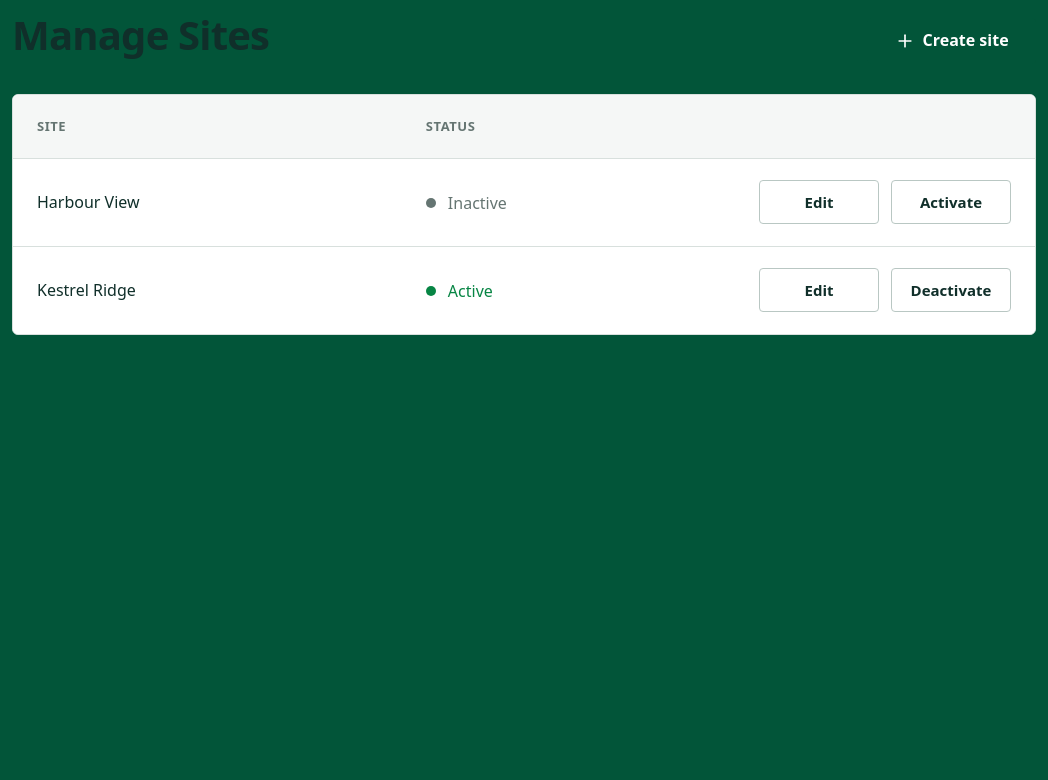
AdminSitesPage › creates a site with checklist items and ignores blank rows
Expected: the table is shown, top-left (13, 95), bottom-right (1035, 334)
Click the button "Create site".
click(952, 41)  # box top-left (867, 18), bottom-right (1036, 64)
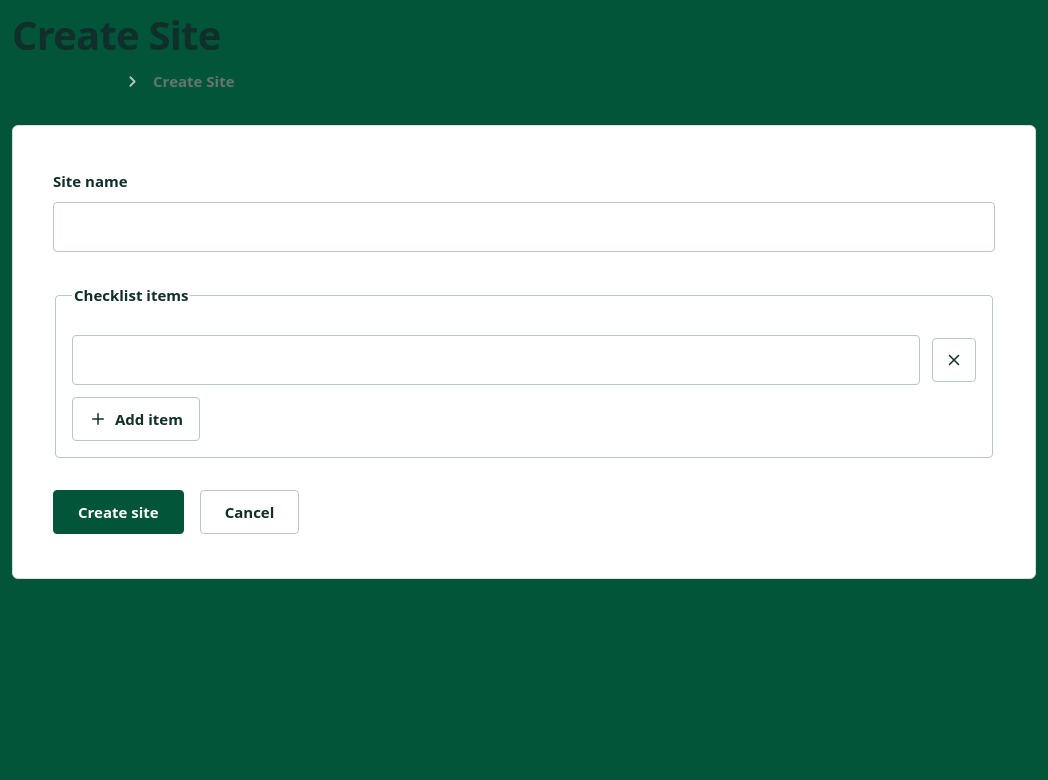
Type "Maple Court" into the field labelled "Site name".
click(524, 227); type("Maple Court")  # box top-left (53, 202), bottom-right (995, 252)
Type "Hard hat worn" into the field named "Checklist item 1".
click(496, 360); type("Hard hat worn")  # box top-left (72, 335), bottom-right (920, 385)
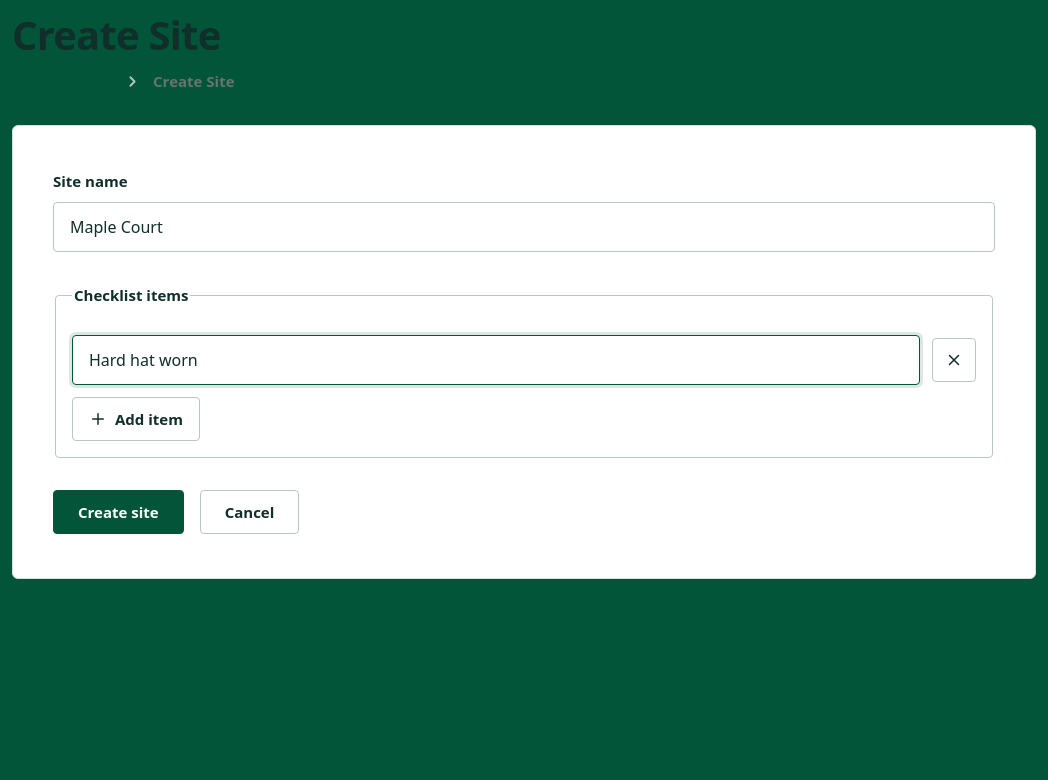
Click the button "Add item".
click(136, 419)  # box top-left (72, 397), bottom-right (200, 441)
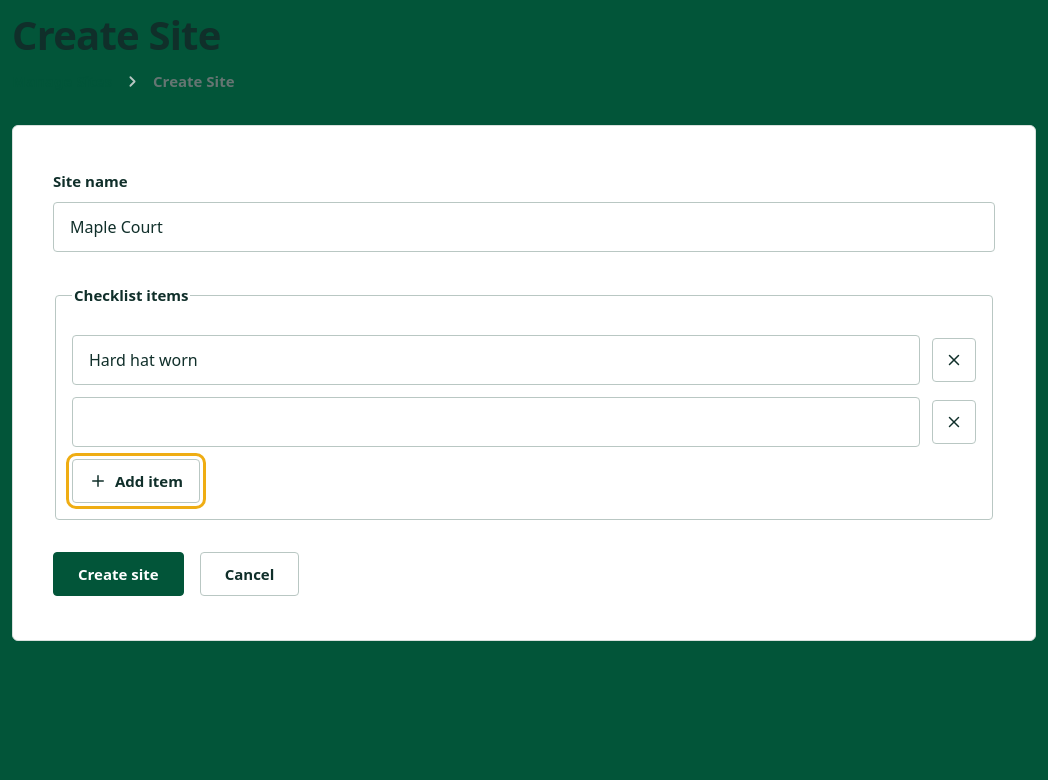
Click the button "Add item".
click(136, 481)  # box top-left (72, 459), bottom-right (200, 503)
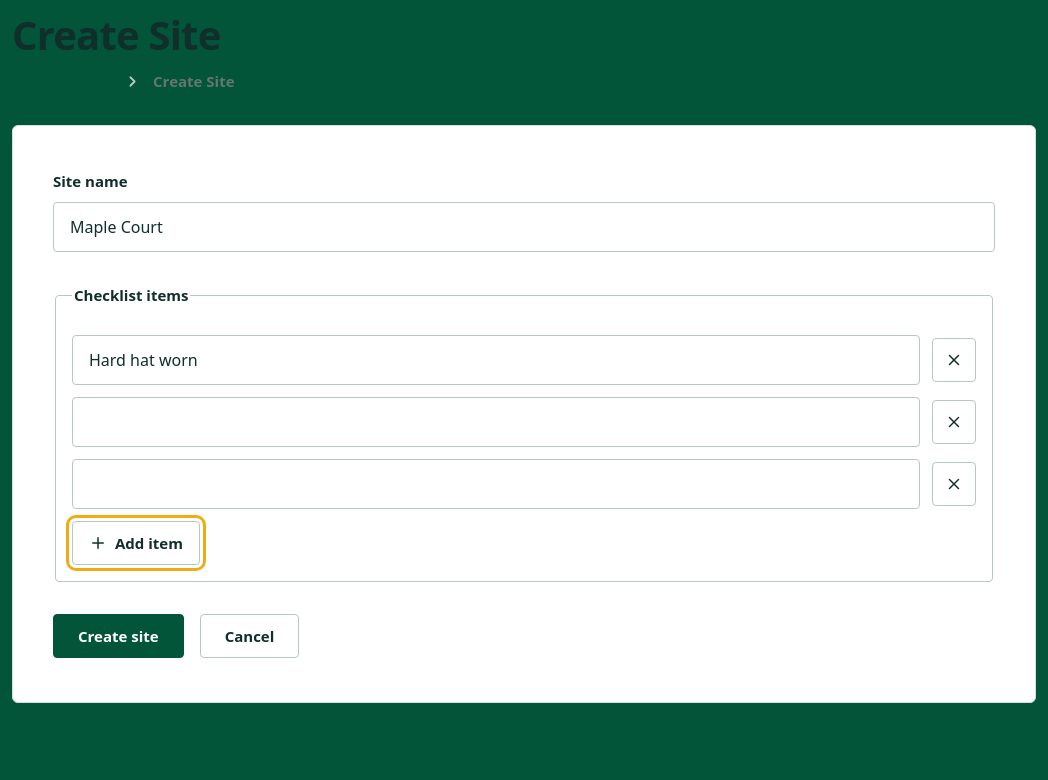
Type "  Vest worn " into the field named "Checklist item 2".
click(496, 422); type("  Vest worn ")  # box top-left (72, 397), bottom-right (920, 447)
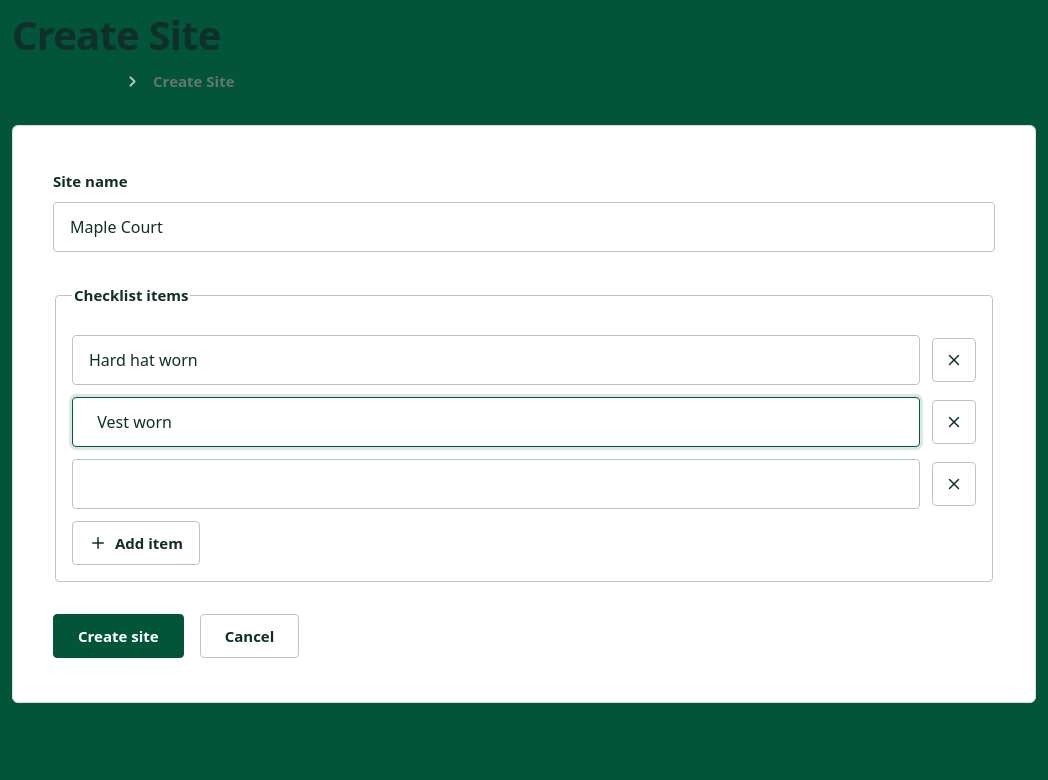
Click the button "Create site".
click(118, 636)  # box top-left (53, 614), bottom-right (184, 658)
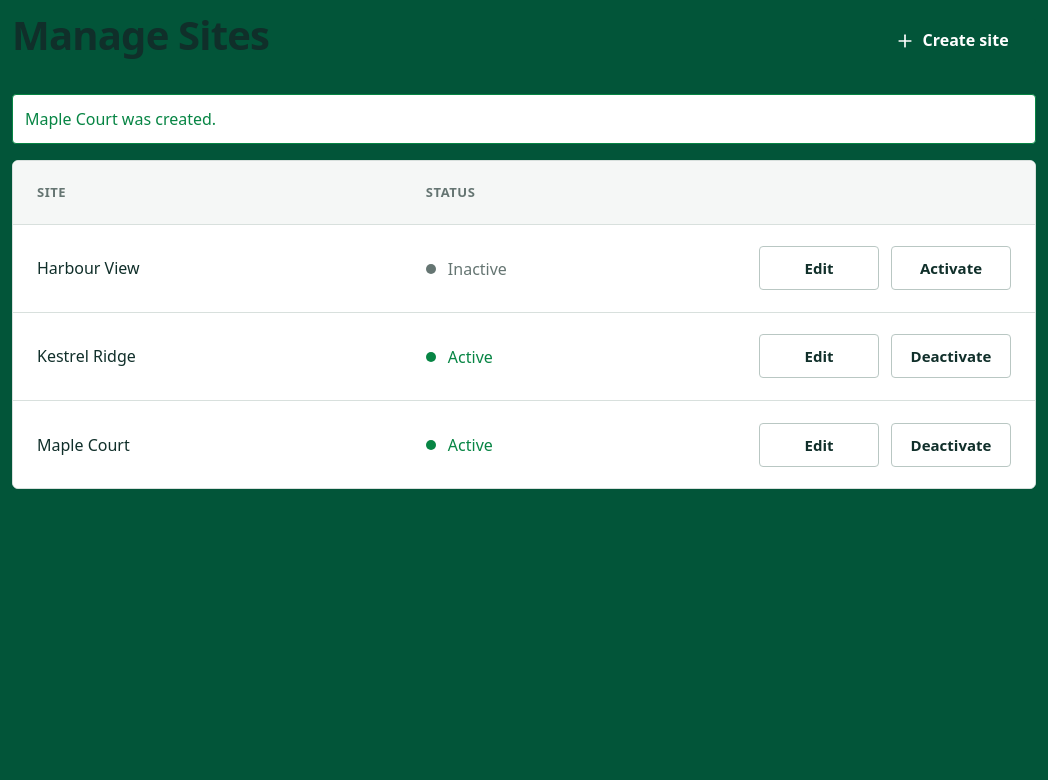
Expected: the text "Maple Court was created." is shown, top-left (25, 108), bottom-right (216, 130)
